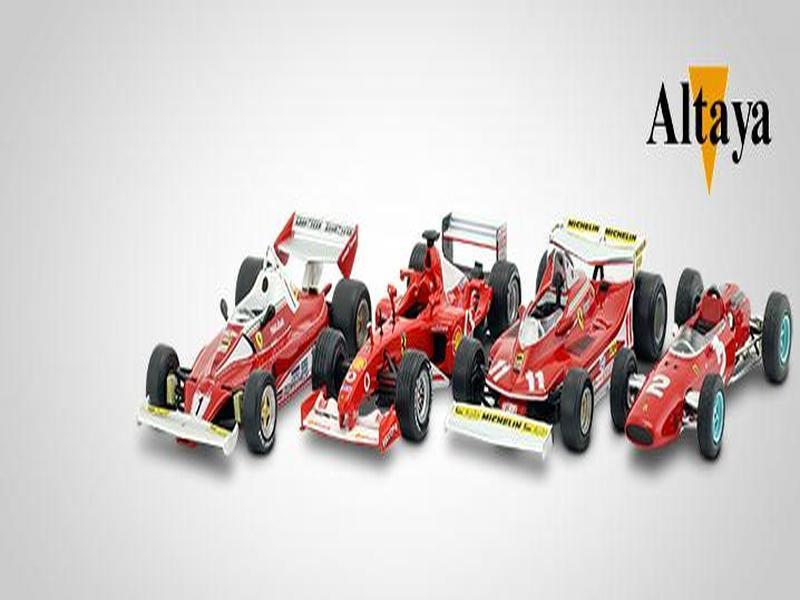f1: (442, 206, 648, 492), (141, 215, 382, 455), (303, 198, 513, 461), (606, 250, 800, 472)
